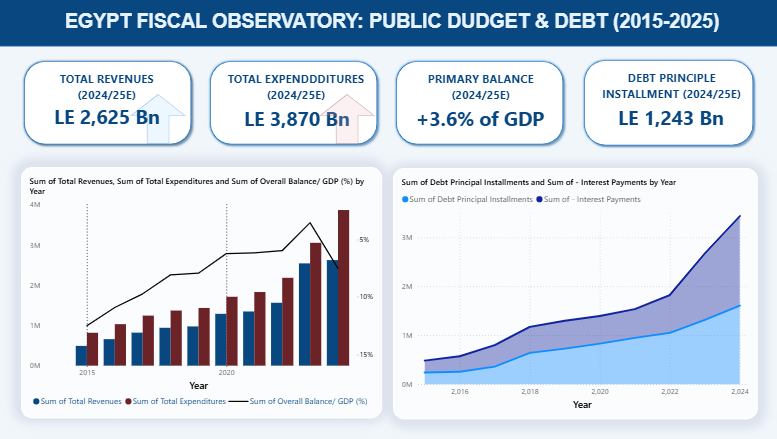

The dashboard page shown, as its layout file describes it:
{"tool":"powerbi","page":{"name":"Dashboard","canvas":[1280,720],"ordinal":0},"visuals":[{"type":"shape","box":[0,0,1280,77.5],"z":0},{"type":"shape","box":[35,95,287.5,150],"z":0,"group":"g1"},{"type":"group","id":"g1","title":"Group 1","box":[35,95,1207.5,150],"z":1000},{"type":"shape","box":[340,95,287.5,150],"z":1000,"group":"g1"},{"type":"shape","box":[645,95,287.5,150],"z":2000,"group":"g1"},{"type":"lineClusteredColumnComboChart","fields":{"Category":["Chart.Year"],"Y":["Sum(Chart.Total Revenues)","Sum(Chart.Total Expenditures)"],"Y2":["Sum(Chart.Overall Balance/ GDP (%))"]},"box":[36,276,592,412],"z":2000},{"type":"shape","box":[955,95,287.5,150],"z":3000,"group":"g1"},{"type":"stackedAreaChart","fields":{"Y":["Sum(Chart 2.Debt Principal Installments)","Sum(Chart 2.- Interest Payments)"],"Category":["Chart 2.Year"]},"box":[645.1,276.5,597.6,411.8],"z":3000},{"type":"shape","box":[214,156,92,82],"z":4000},{"type":"textbox","box":[48.3,113.3,258.3,70],"z":5000},{"type":"textbox","box":[331.7,113.3,311.7,70],"z":6000},{"type":"textbox","box":[658.3,113.3,261.7,70],"z":7000},{"type":"textbox","box":[48.3,165,258.3,70],"z":8000},{"type":"textbox","box":[971.7,111.7,261.7,70],"z":9000,"group":"g2"},{"type":"textbox","box":[658.3,168.3,258.3,70],"z":9000},{"type":"textbox","box":[358.3,168.3,258.3,70],"z":10000},{"type":"shape","box":[524,156,92,82],"z":11000},{"type":"group","id":"g2","title":"Group 2","box":[971.7,111.7,261.7,125],"z":12000},{"type":"textbox","box":[90,13.3,1108.3,48.3],"z":13000},{"type":"textbox","box":[971.7,166.7,258.3,70],"z":13000,"group":"g2"},{"type":"actionButton","box":[36,96,272,140],"z":14000},{"type":"actionButton","box":[352,100,272,140],"z":15000},{"type":"actionButton","box":[654,106,272,140],"z":16000},{"type":"actionButton","box":[966,100,272,140],"z":17000}]}

Visuals, with their boxes in screenshot pixels (x1, y1, x2, y2), scaled from the page's 1280x720 canvas onto the 777x439 screenshot:
shape: 0:0:776:47
shape: 21:58:196:149
"Group 1" group: 21:58:754:149
shape: 206:58:381:149
shape: 392:58:566:149
lineClusteredColumnComboChart - Chart.Year x Sum(Chart.Total Revenues): 22:168:381:419
shape: 580:58:754:149
stackedAreaChart - Sum(Chart 2.Debt Principal Installments) x Sum(Chart 2.- Interest Payments): 392:169:754:420
shape: 130:95:186:145
textbox: 29:69:186:112
textbox: 201:69:391:112
textbox: 400:69:558:112
textbox: 29:101:186:143
textbox: 590:68:749:111
textbox: 400:103:556:145
textbox: 217:103:374:145
shape: 318:95:374:145
"Group 2" group: 590:68:749:144
textbox: 55:8:727:38
textbox: 590:102:747:144
actionButton: 22:59:187:144
actionButton: 214:61:379:146
actionButton: 397:65:562:150
actionButton: 586:61:752:146
